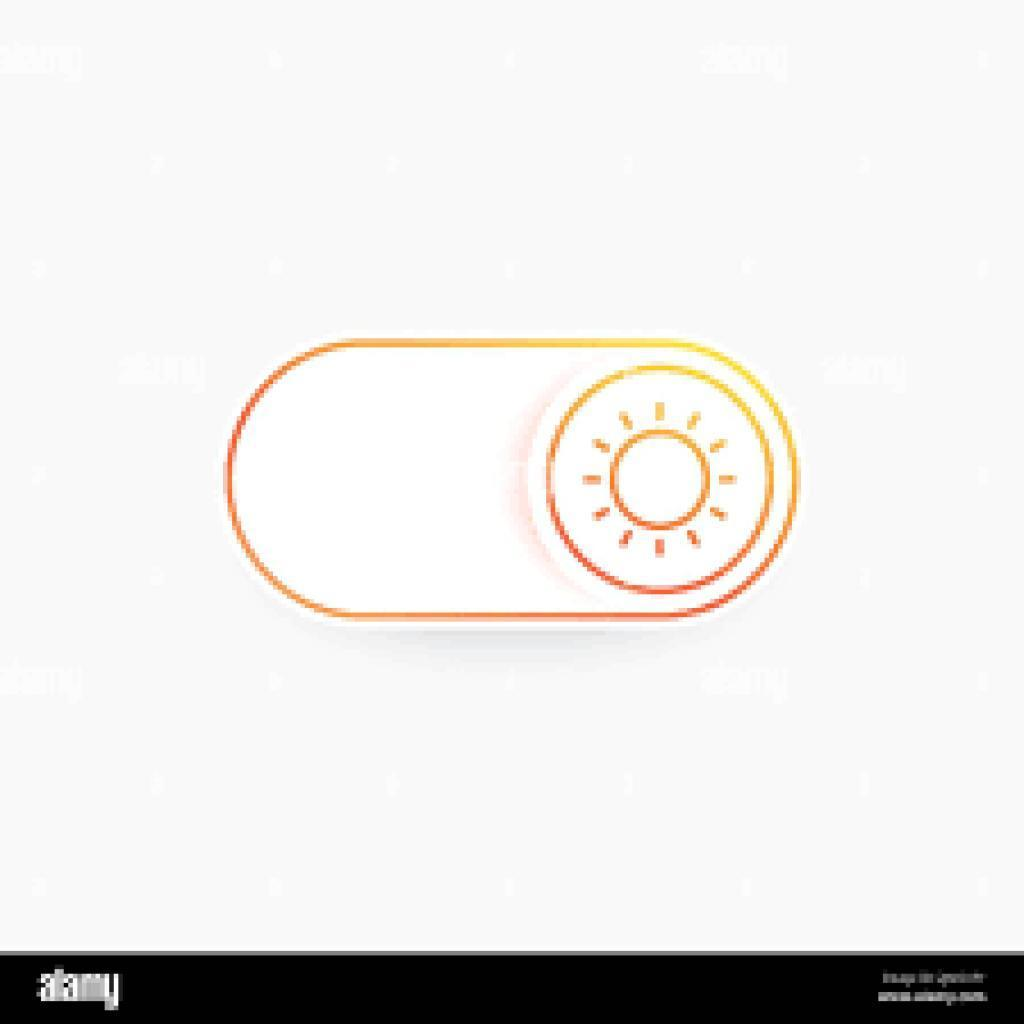switch: (221, 336, 804, 632)
